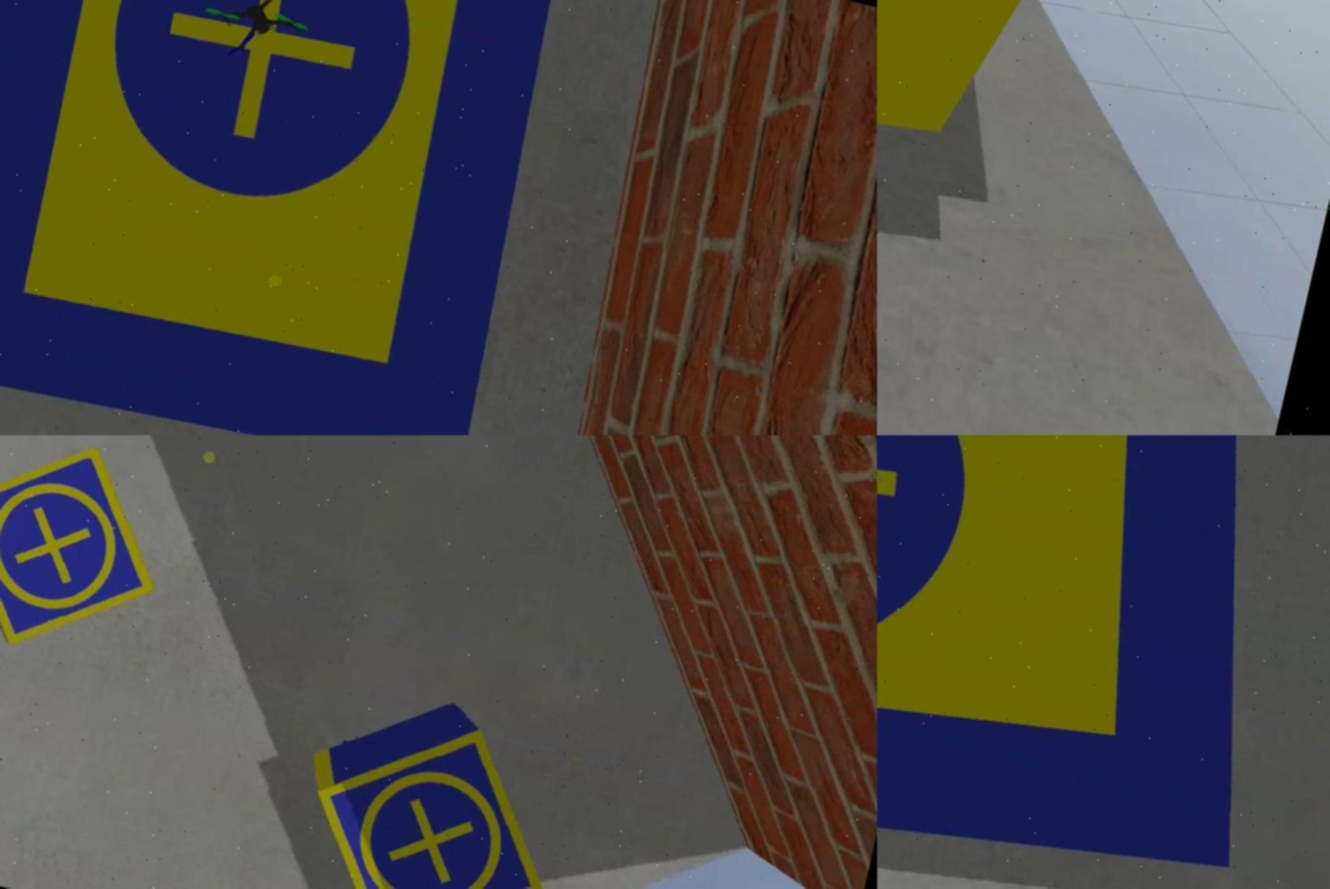large_base: (1, 1, 587, 435), (877, 435, 1330, 889)
small_base: (290, 694, 577, 889), (1, 435, 180, 676)
